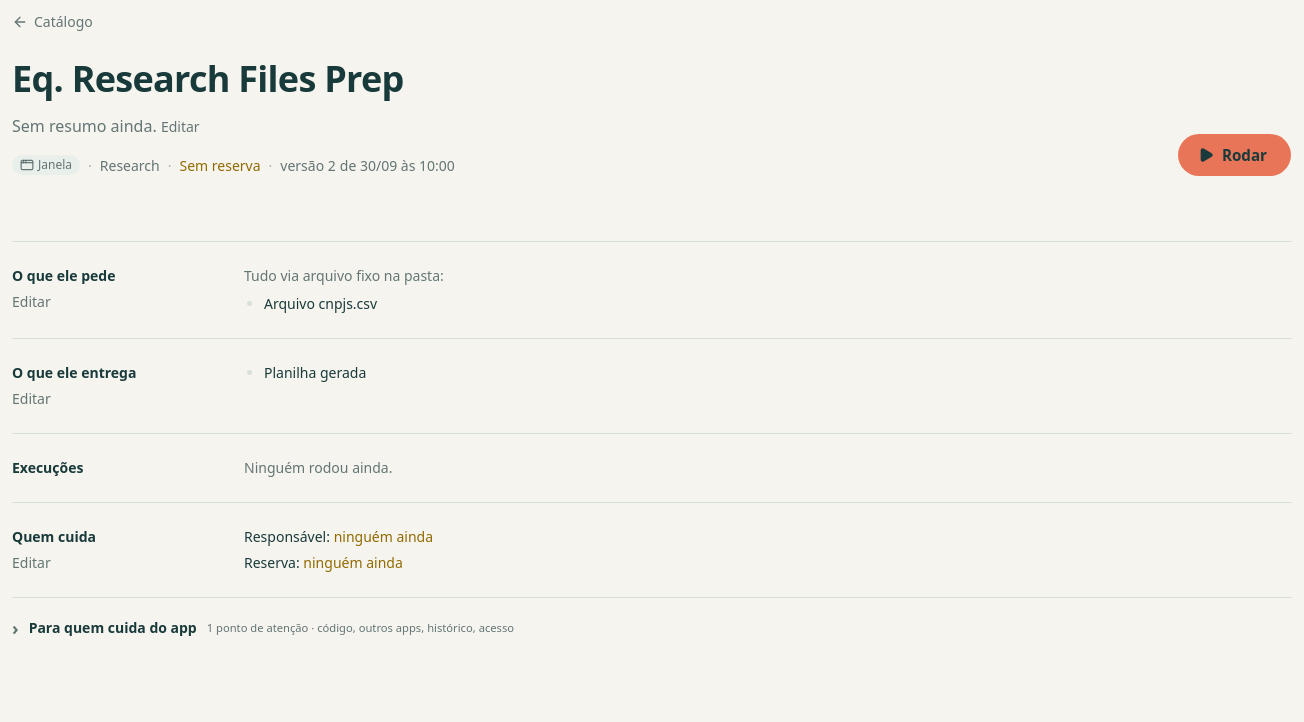
Test: someone who cares for the app's access changes who cares and the area
The width and height of the screenshot is (1304, 722).
Expected: the button with aria-label "Editar Quem cuida" is shown, 12,553 -> 51,573
Click the button with aria-label "Editar Sobre".
click(180, 127)  # box 161,117 -> 200,137
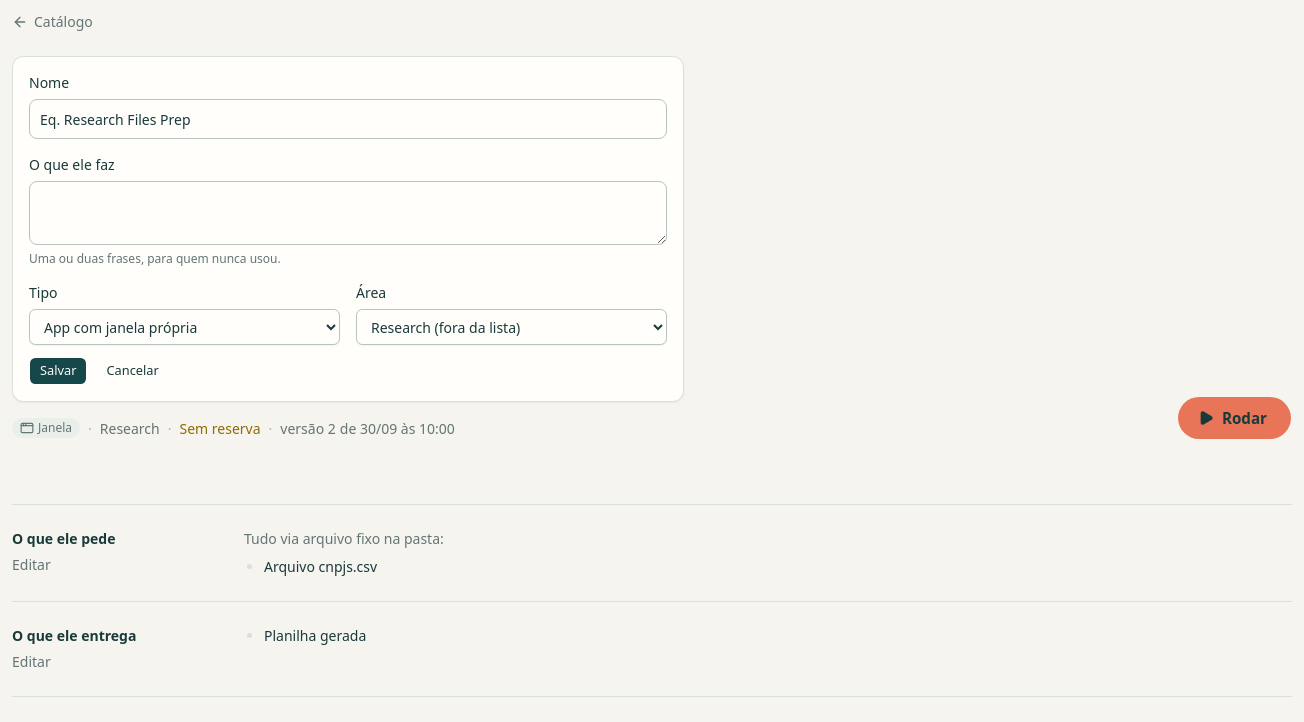
Now the dropdown labelled "Área" is shown, box 356,309 -> 667,345
